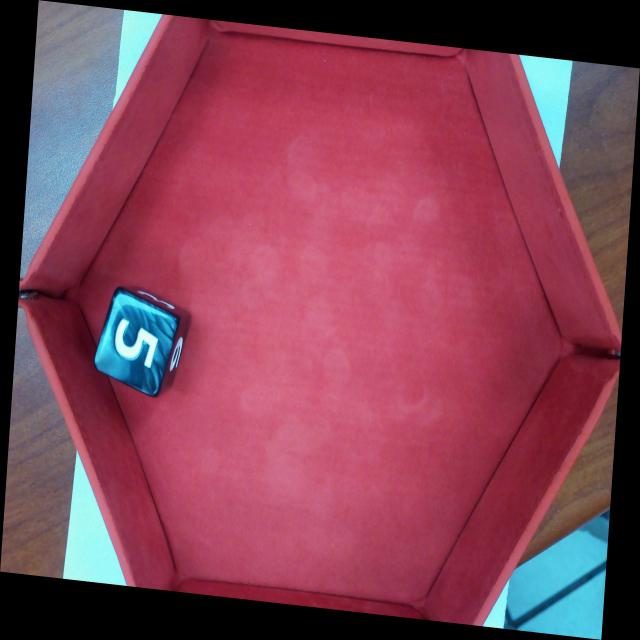dice: (94, 289, 180, 397)
